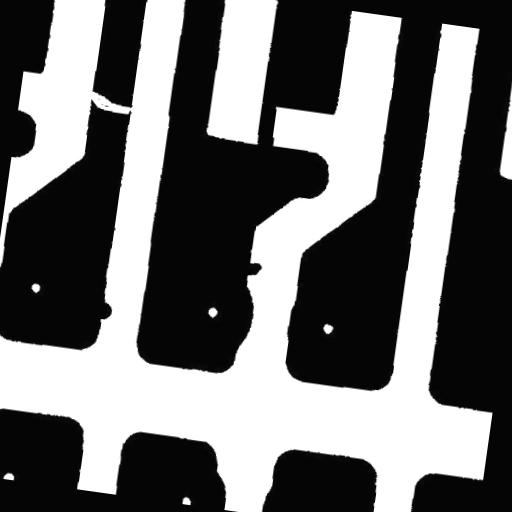open: (76, 82, 142, 123)
short: (247, 89, 288, 159)
spur: (85, 292, 121, 328), (232, 252, 270, 286)
